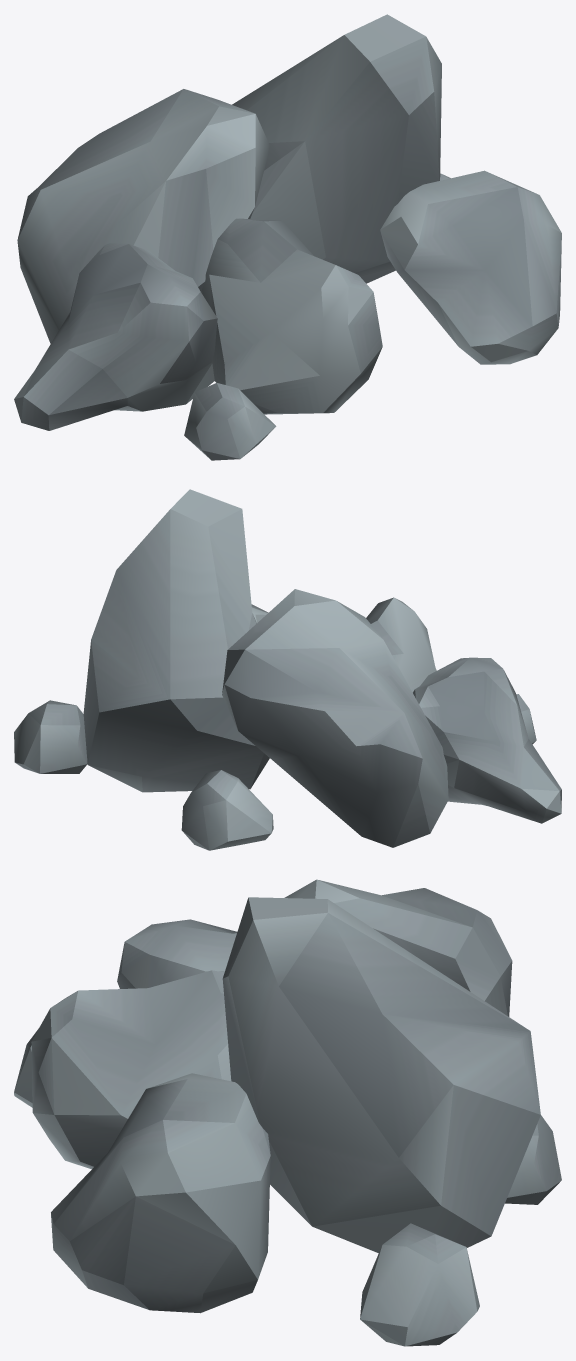
File: stone_chunks_small.glb
The picture shows the model from 3 angles, top to bottom: view 1: azimuth 30°, elevation 25°; view 2: azimuth 150°, elevation 25°; view 3: azimuth 270°, elevation 25°; orthographic projection. The views are drawn at different scales.
Parts seen in each view (by area): view 1: Stone_Chunks_Small; view 2: Stone_Chunks_Small; view 3: Stone_Chunks_Small.
Part boxes in pixels (x1,y1,x2,y2): Stone_Chunks_Small: [14, 14, 561, 460]; Stone_Chunks_Small: [14, 489, 561, 850]; Stone_Chunks_Small: [14, 879, 561, 1346].
Bounding box in the file's own units: 1.12 × 0.5792 × 0.7861.
1 material, 1 textured.
